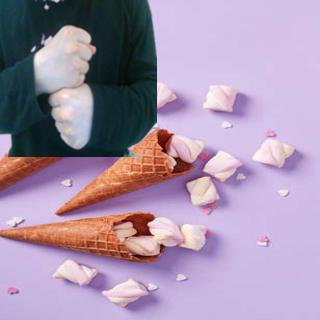CAREFUL: (32, 21, 99, 153)
